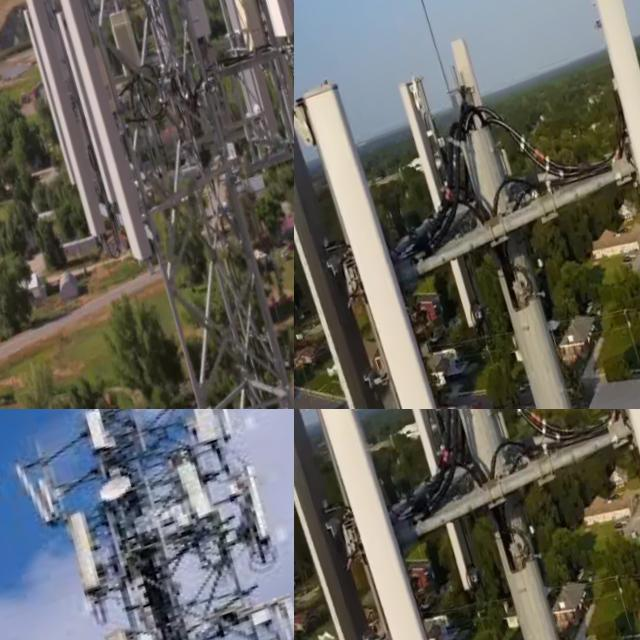GSM Antenna: (294, 72, 446, 409), (25, 0, 176, 258), (0, 0, 139, 238), (294, 128, 400, 409), (309, 409, 435, 640), (375, 409, 510, 606), (294, 409, 393, 640), (180, 0, 294, 169), (2, 0, 90, 183), (592, 0, 640, 181), (56, 507, 120, 596), (151, 0, 237, 66), (169, 460, 233, 533), (99, 0, 154, 70), (165, 409, 240, 453), (89, 464, 147, 511), (434, 409, 514, 442), (264, 585, 294, 640)
Microwave Antenna: (380, 70, 508, 346), (441, 30, 518, 188)
